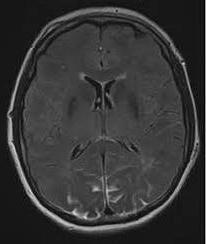Normal_Brain: (13, 5, 206, 244)
